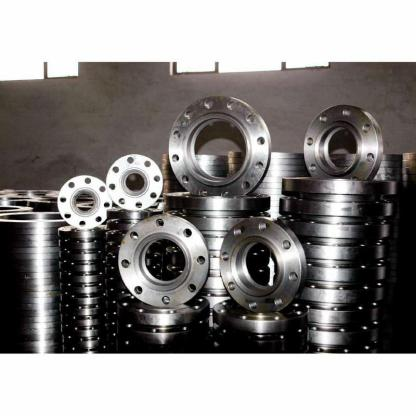FOD: (166, 90, 275, 204), (113, 214, 211, 312), (217, 211, 308, 314), (104, 150, 168, 210), (56, 175, 113, 230)
